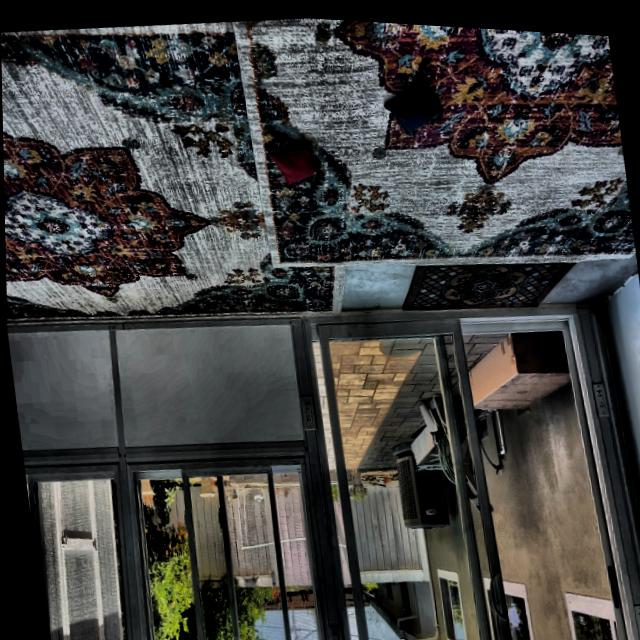blue-bean-bag: (381, 78, 445, 135)
red-bean-bag: (268, 138, 322, 190)
